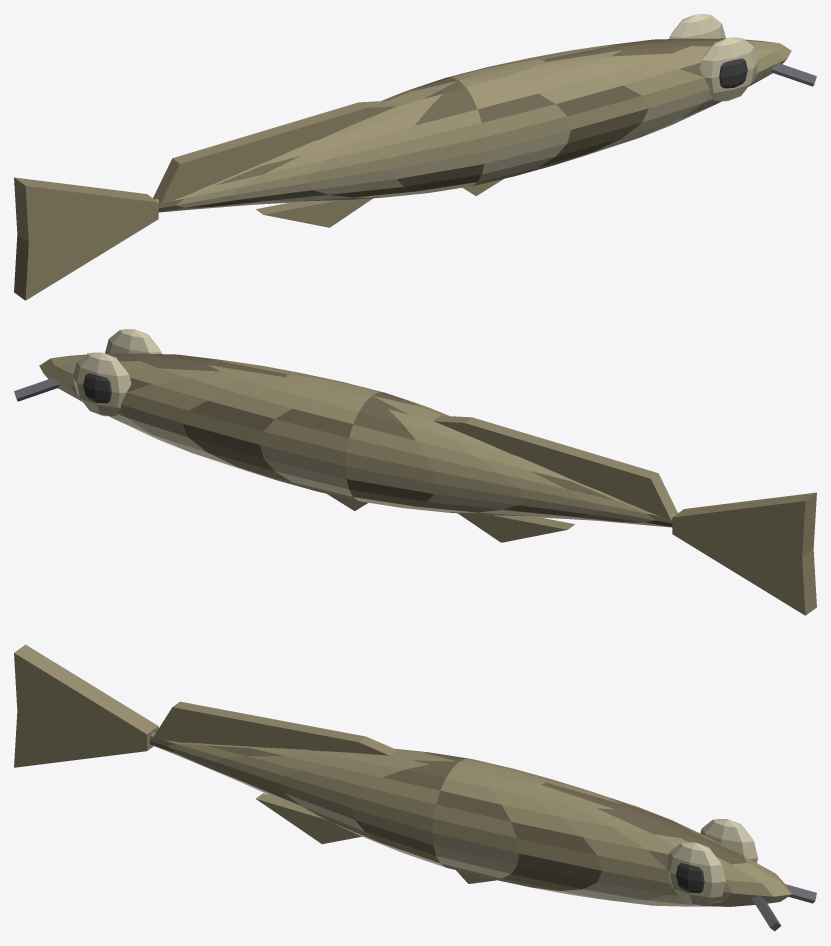
Rendered from Burbot.glb.
3 renders of one model, top to bottom at view 1: azimuth 30°, elevation 25°; view 2: azimuth 150°, elevation 25°; view 3: azimuth 330°, elevation 25°, orthographic.
Parts seen in each view (by area): view 1: Burbot; view 2: Burbot; view 3: Burbot.
Boxes of the visible parts, x1,y1,x2,y2 form: Burbot: (14,14,816,300); Burbot: (14,329,816,615); Burbot: (14,644,816,931).
Size of the model in its own units: 5.61 by 0.8409 by 0.6605.
